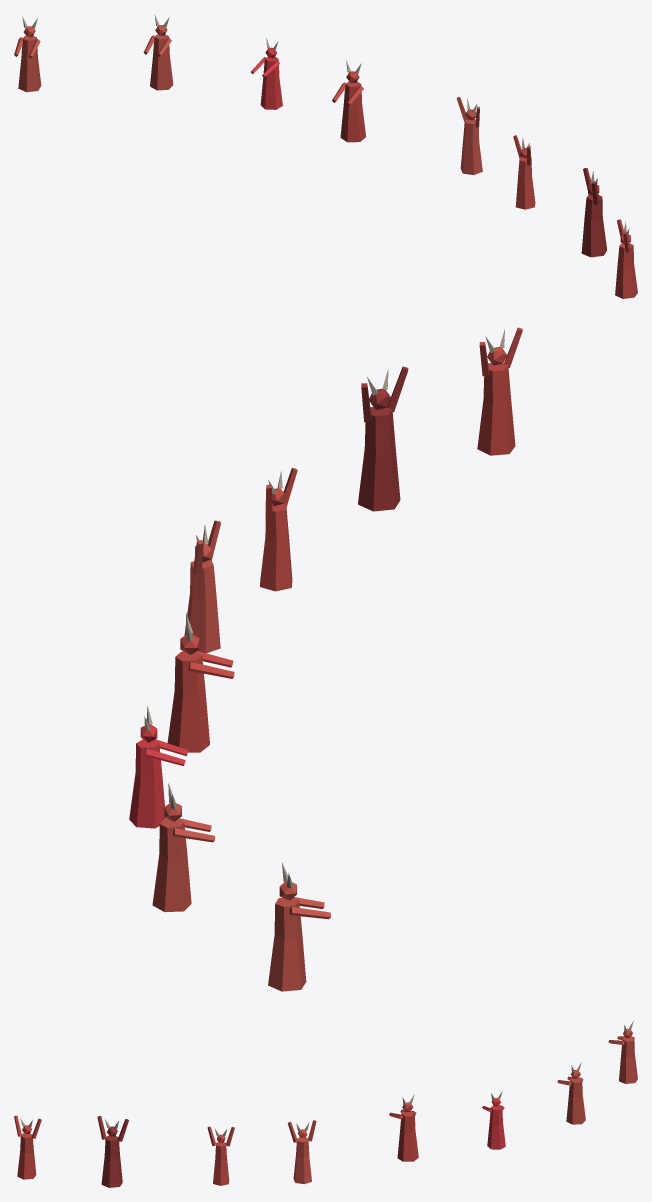
Rendered from Stands_4_1_1_Ice.obj.
3 views of the same model, one above another, from view 1: azimuth 30°, elevation 25°; view 2: azimuth 150°, elevation 25°; view 3: azimuth 270°, elevation 25° (orthographic). The views are drawn at different scales.
Visible parts, largest first — view 1: Stands_4_1_1_Ice; view 2: Stands_4_1_1_Ice; view 3: Stands_4_1_1_Ice.
Part boxes in pixels (x1,y1,x2,y2): Stands_4_1_1_Ice: [14, 15, 637, 298]; Stands_4_1_1_Ice: [129, 327, 522, 991]; Stands_4_1_1_Ice: [14, 1020, 637, 1187].
Size of the model in its own units: 14.47 by 3.77 by 32.73.
1 material, 1 textured.
